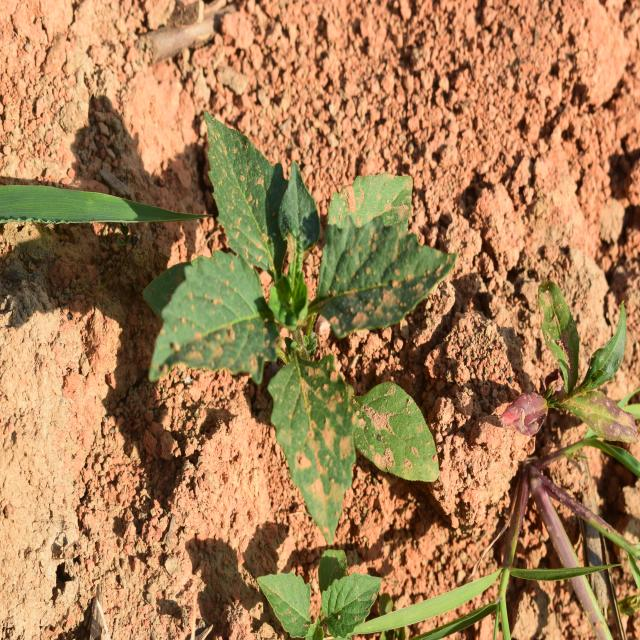Black_nightshade: (184, 134, 448, 498)
